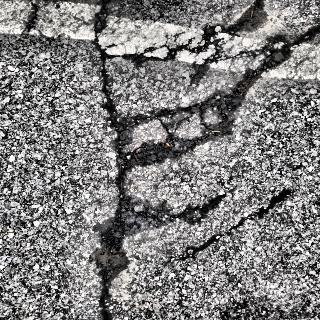alligator-crack: (132, 94, 256, 162)
crack: (87, 1, 143, 320), (145, 0, 320, 90), (182, 184, 298, 264)
pothole: (72, 192, 177, 280)
